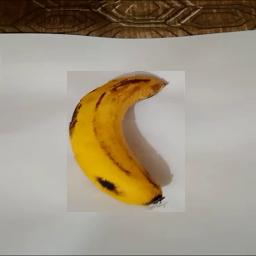Banana Semifresh: (67, 71, 185, 212)
